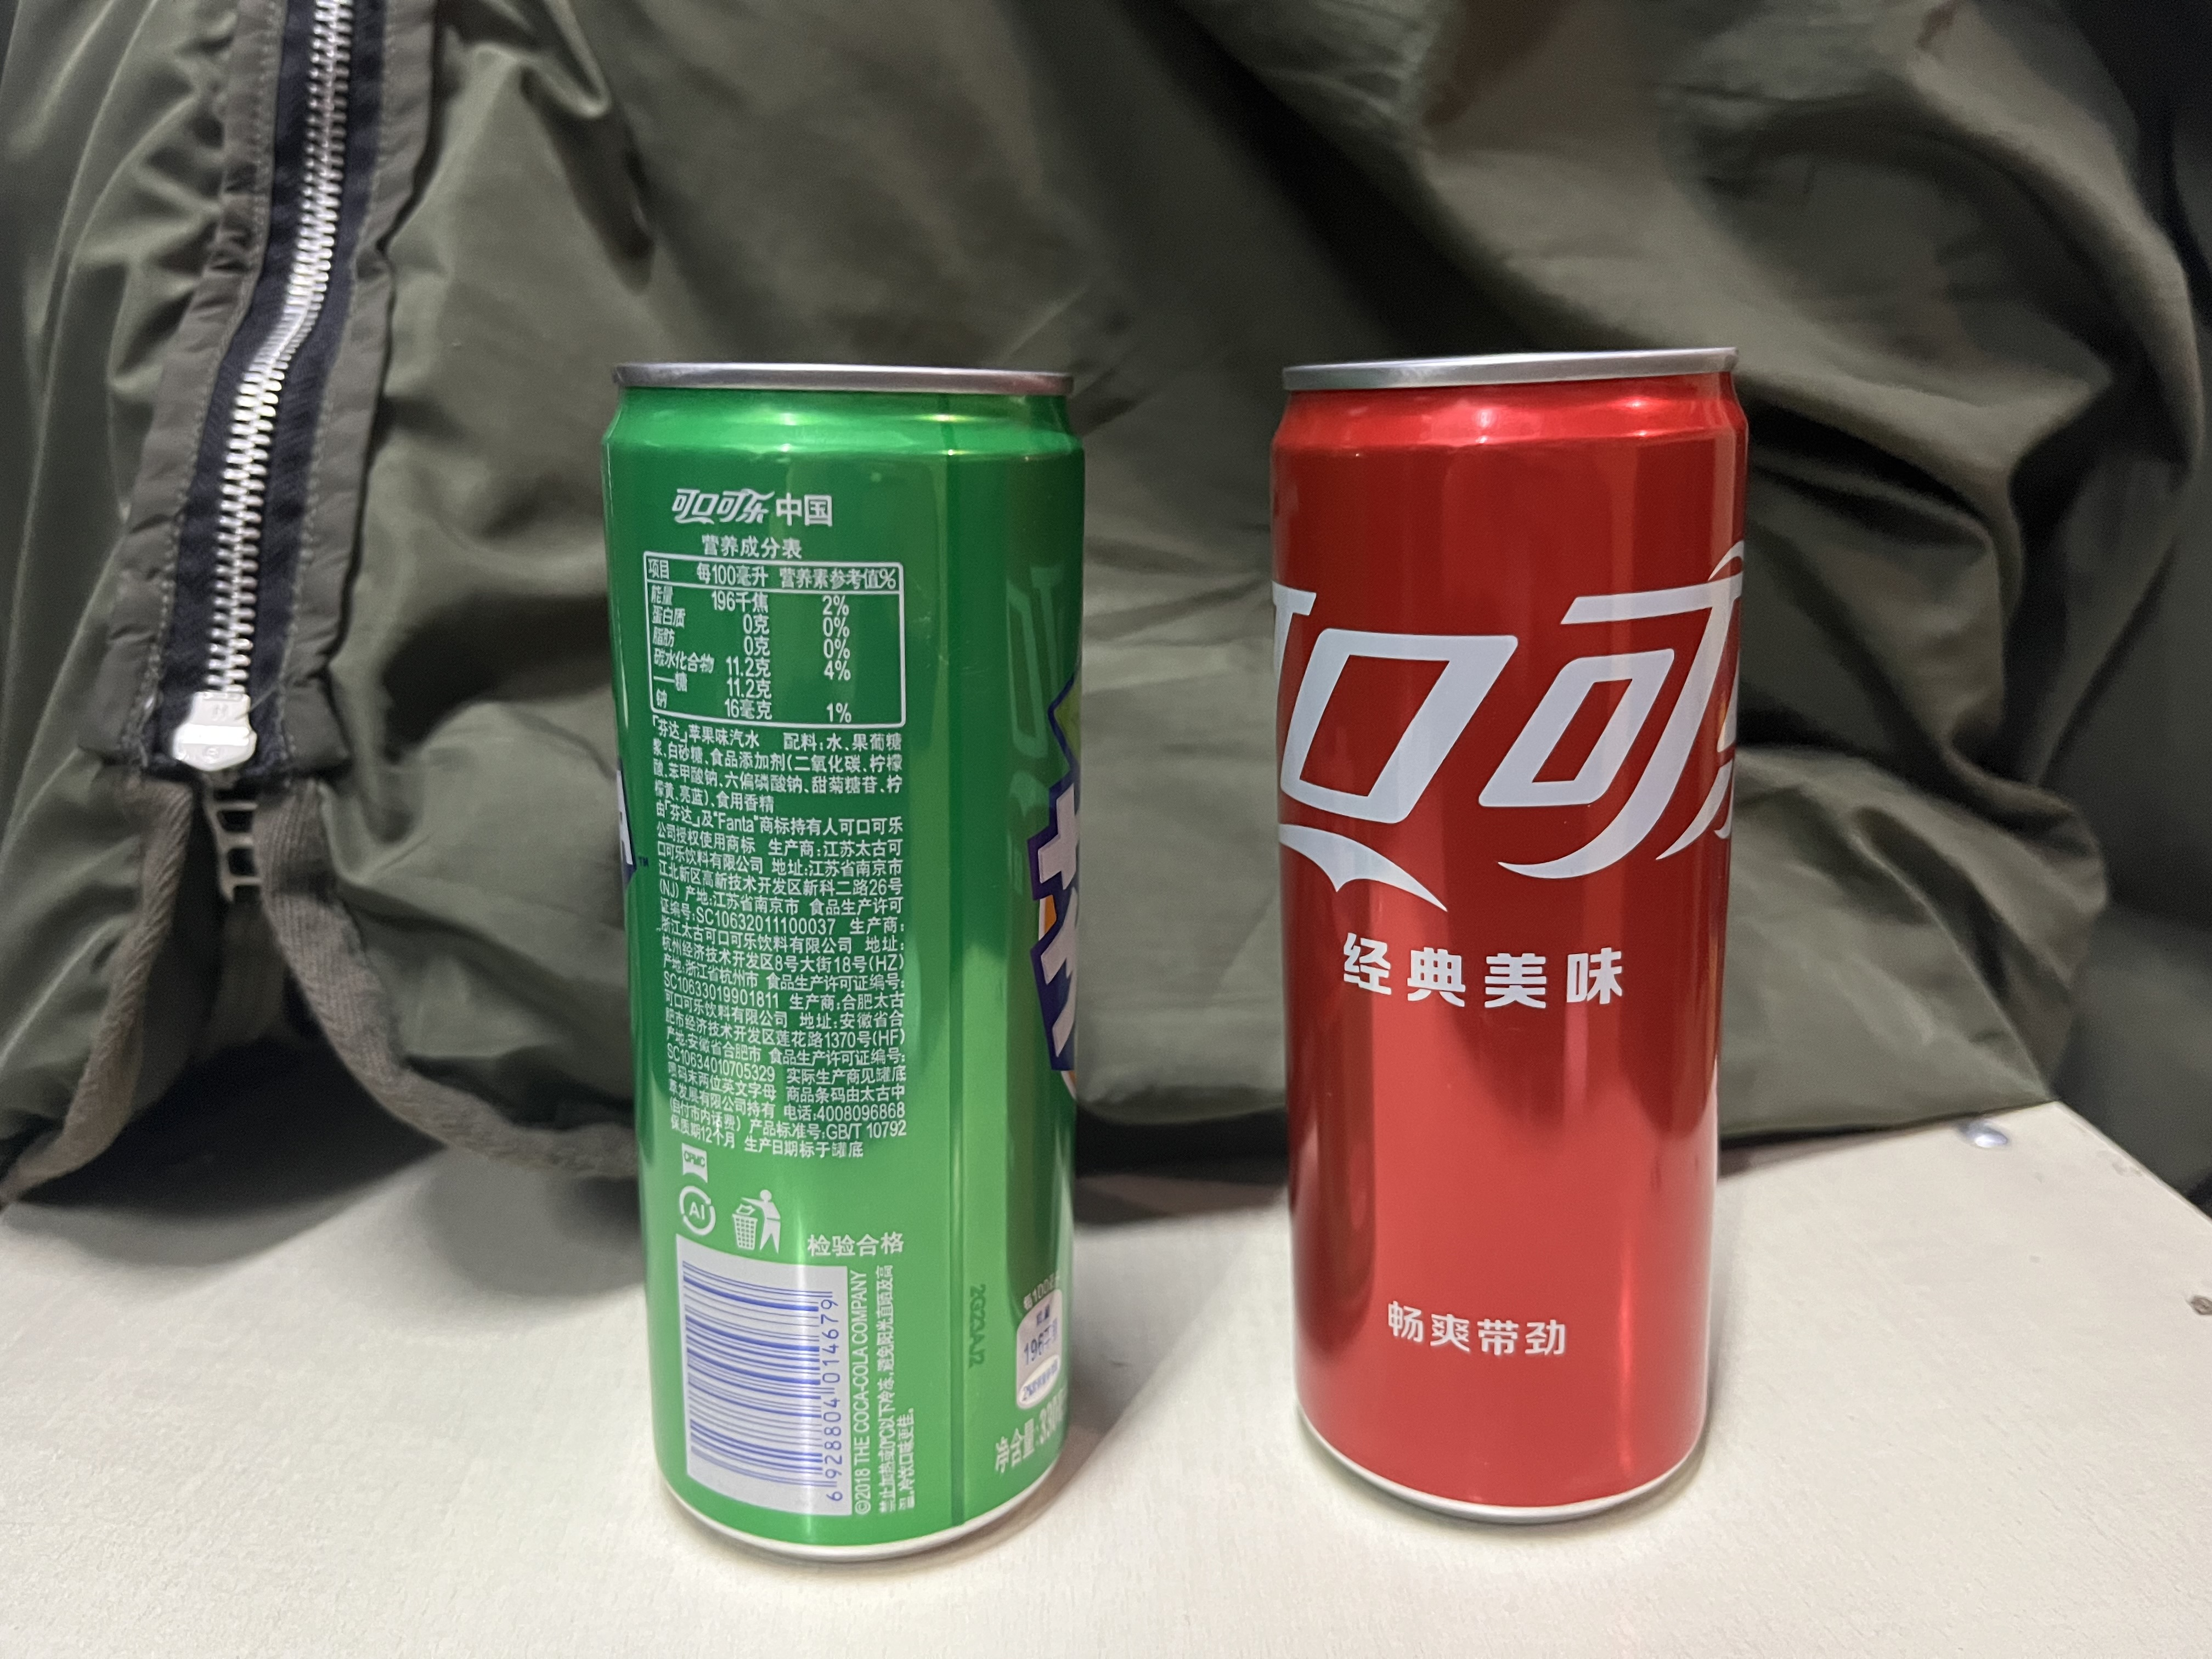CocaCola: (1270, 349, 1750, 1523)
FANTA_Apple: (601, 369, 1083, 1556)
